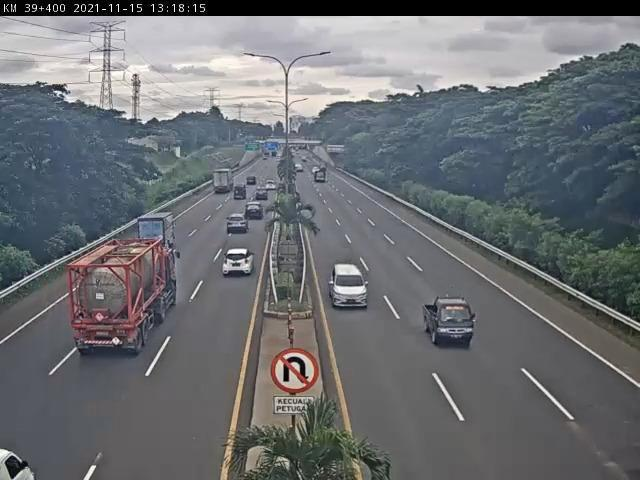car: (422, 295, 476, 349), (328, 263, 371, 311), (224, 247, 259, 276), (226, 212, 249, 234), (246, 201, 265, 222)
truck: (73, 237, 182, 355), (137, 211, 178, 255)
